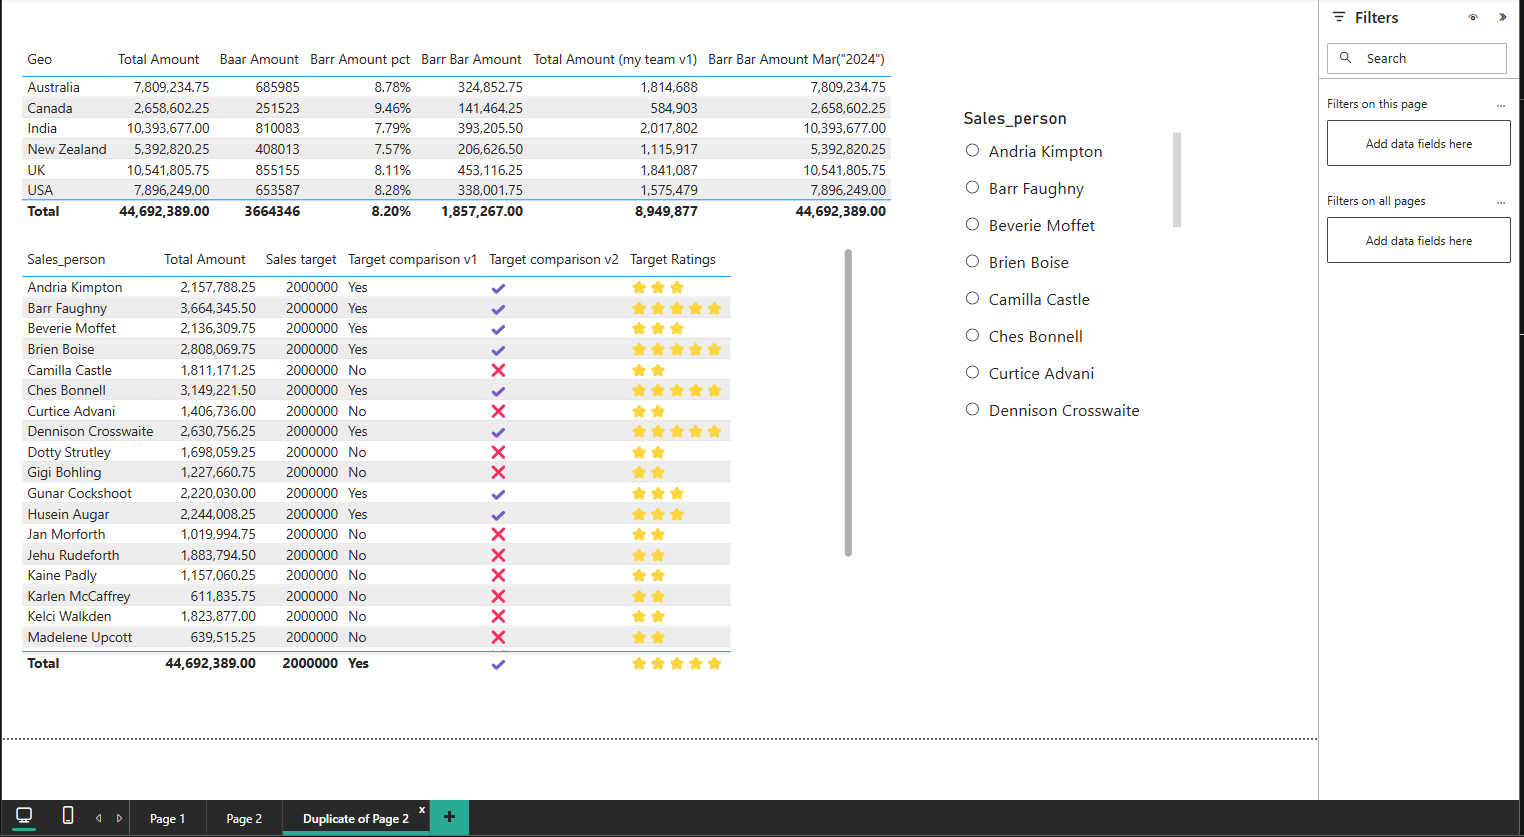

The dashboard page shown, as its layout file describes it:
{"tool":"powerbi","page":{"name":"Duplicate of Page 2","canvas":[1280,720],"ordinal":2},"visuals":[{"type":"tableEx","fields":{"Values":["locations.Geo","Measure.Total Amount","Measure.Baar Amount","Measure.Barr Amount pct","Measure.Barr Bar Amount","Measure.Total amount(myteam v1)","Measure.Barr Bar Amount Mar(\"2024\")"]},"box":[13.6,43.8,864.7,194.5],"z":0},{"type":"listSlicer","fields":{"Values":["people.Sales_person"]},"box":[929.8,107,222.7,319],"z":1000},{"type":"tableEx","fields":{"Values":["people.Sales_person","Measure.Total Amount","Measure.Sales target","Measure.Target comparison v1","Measure.Target comparison v2","Measure.Target Ratings"]},"box":[13.6,238.3,819,422.1],"z":2000}]}

Visuals, with their boxes on the page's 1280x720 design canvas (x1, y1, x2, y2). These are canvas units, not pixel positions in the 1524x837 screenshot, which may show the page scaled, cropped or inside an application window:
tableEx - locations.Geo x Measure.Total Amount: <region>14, 44, 878, 238</region>
listSlicer - people.Sales_person: <region>930, 107, 1152, 426</region>
tableEx - people.Sales_person x Measure.Total Amount: <region>14, 238, 833, 660</region>
